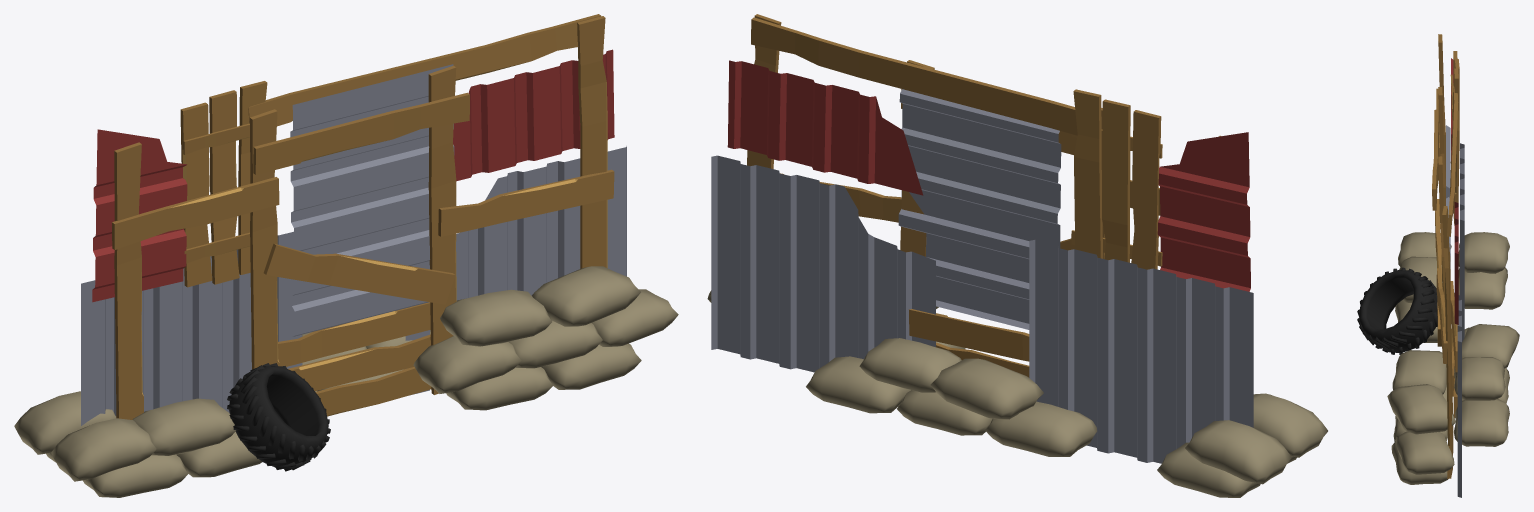
The model's file is Barrier Trash.glb.
The picture shows the model from 3 angles, left to right: view 1: azimuth 30°, elevation 25°; view 2: azimuth 150°, elevation 25°; view 3: azimuth 270°, elevation 25°; orthographic projection. The views are drawn at different scales.
Parts seen in each view (by area): view 1: Barrier Trash; view 2: Barrier Trash; view 3: Barrier Trash.
Boxes of the visible parts, x1,y1,x2,y2 form: Barrier Trash: (14,14,678,497); Barrier Trash: (707,14,1327,497); Barrier Trash: (1357,34,1519,497).
Bounding box in the file's own units: 1.44 × 0.803 × 0.4191.
